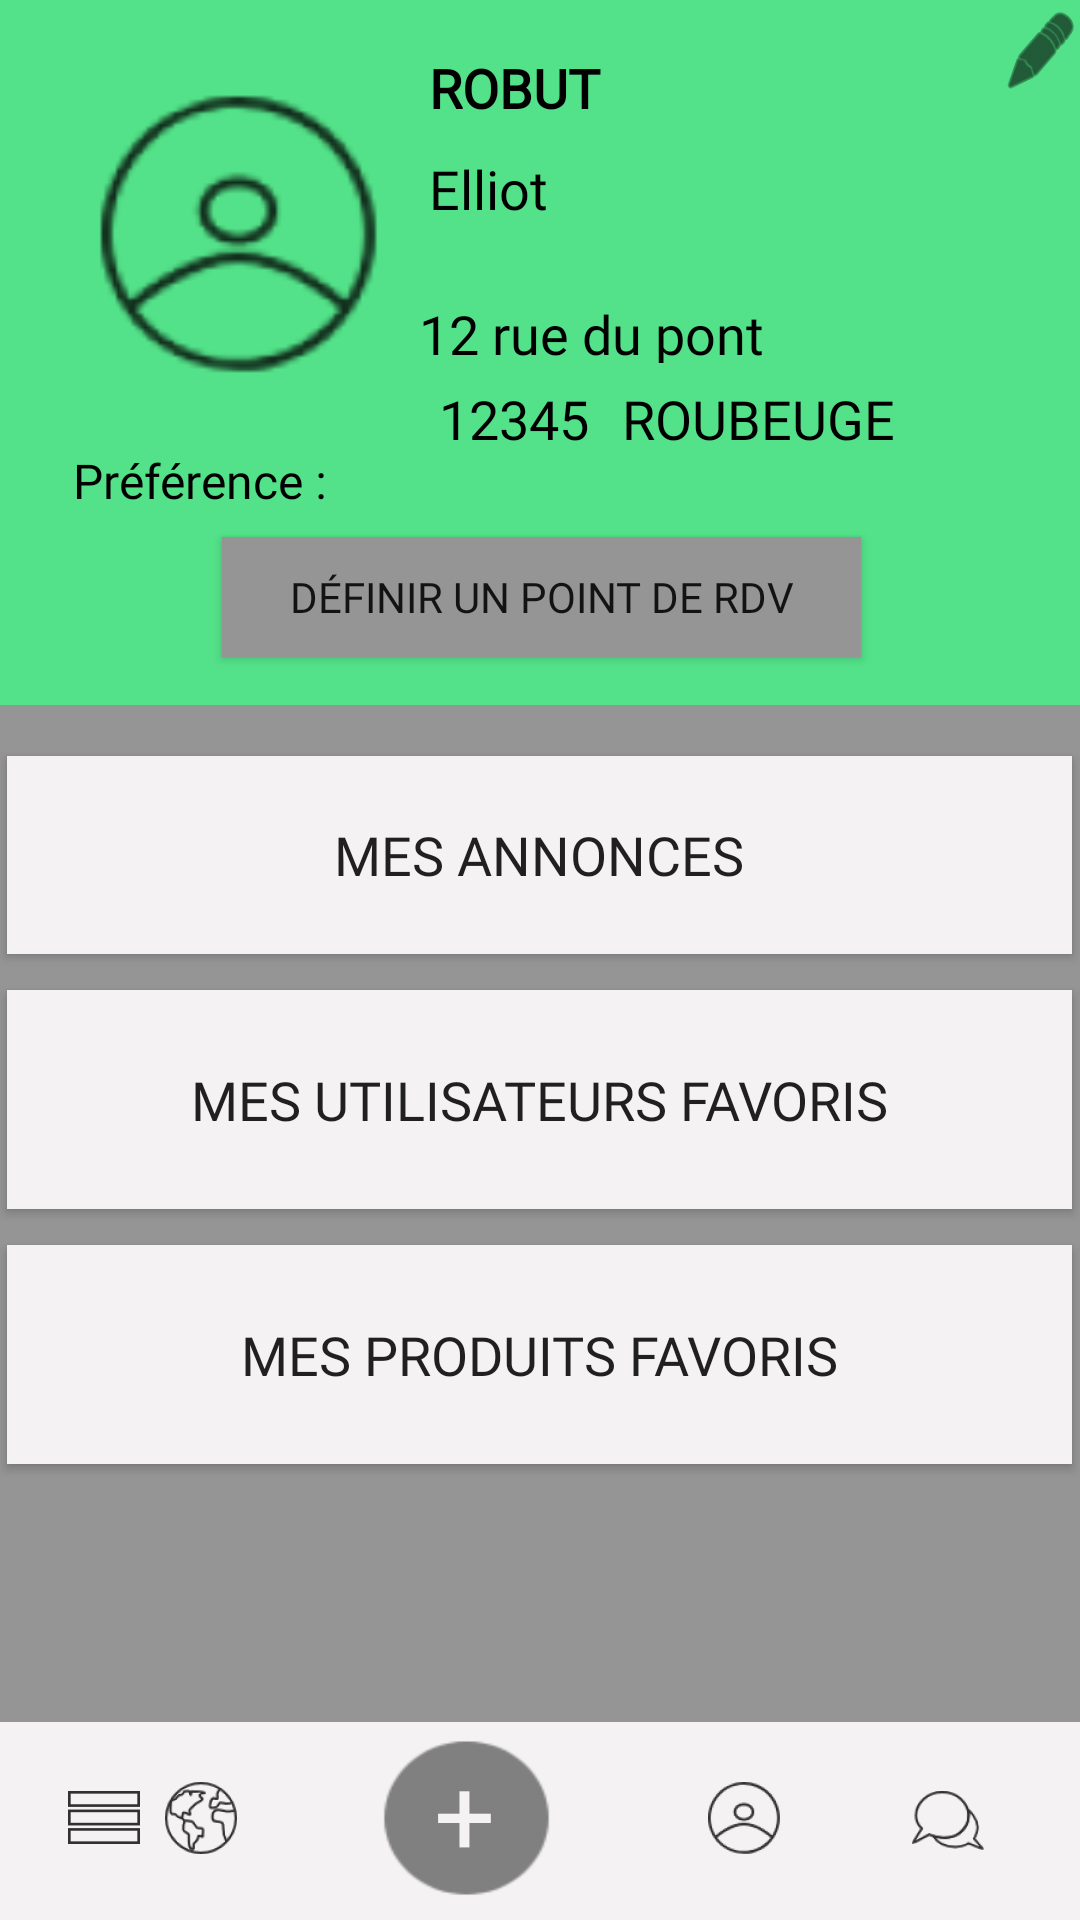

Where to tap for icons on this 1080w x 1920h app screen, as (x,y):
add: (466,1818)
discuss: (948,1820)
edit: (1041,50)
menu: (104,1817)
planet: (201,1818)
